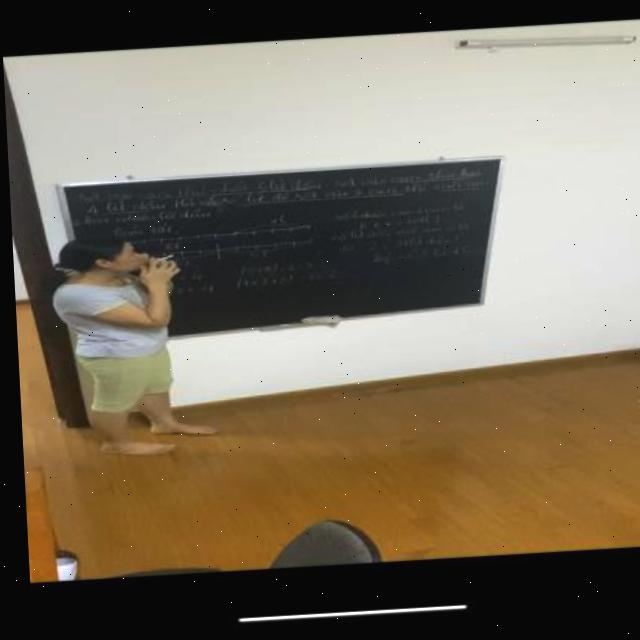cigarette: (151, 255, 175, 265)
